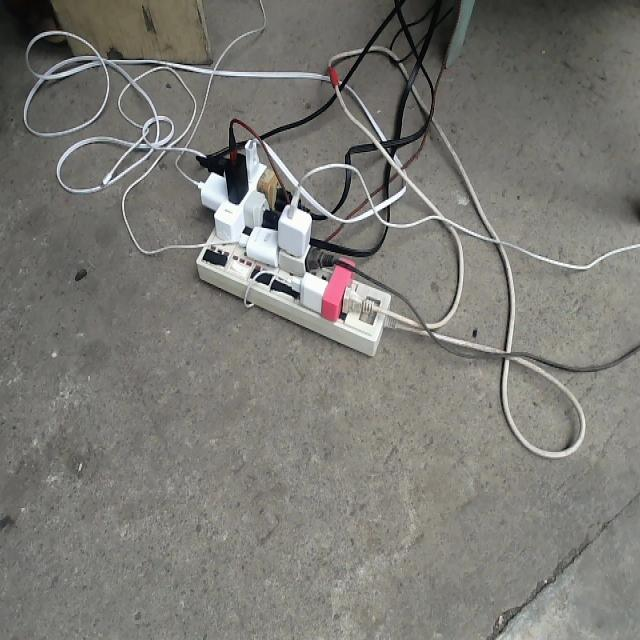-: (193, 117, 391, 355)
